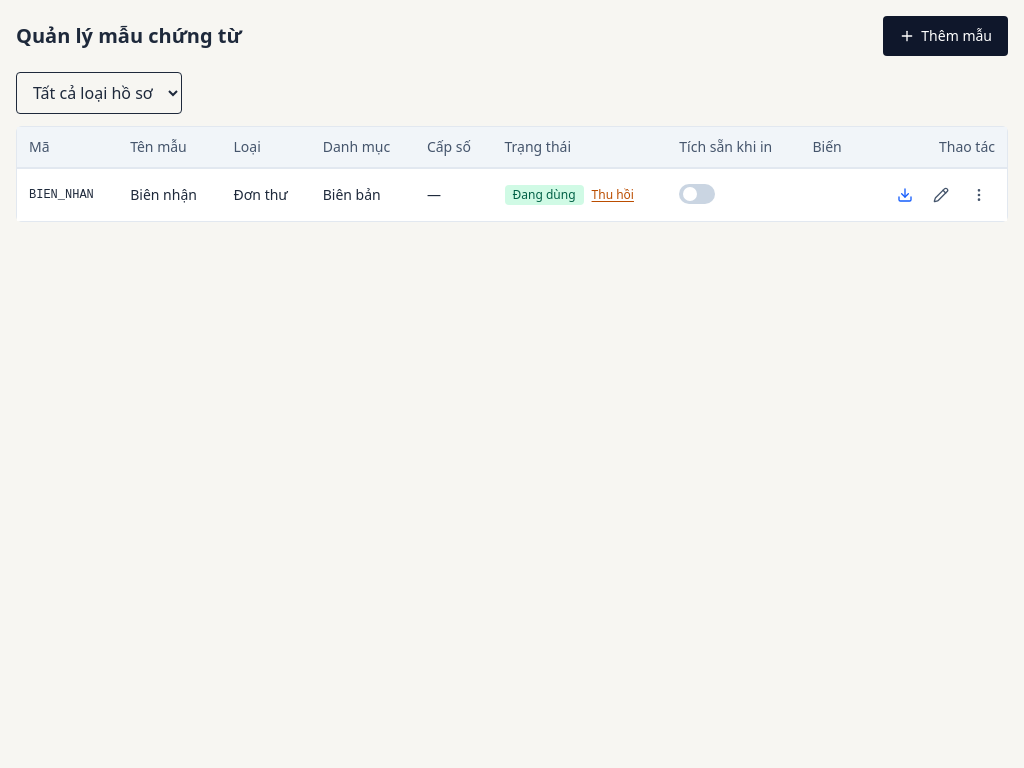
DocumentTemplatesPage › Sửa → mở modal chế độ Sửa (pre-fill, mã read-only)
The width and height of the screenshot is (1024, 768).
Click the button with test id "btn-edit-d1".
click(941, 195)  # box [925,179,957,211]
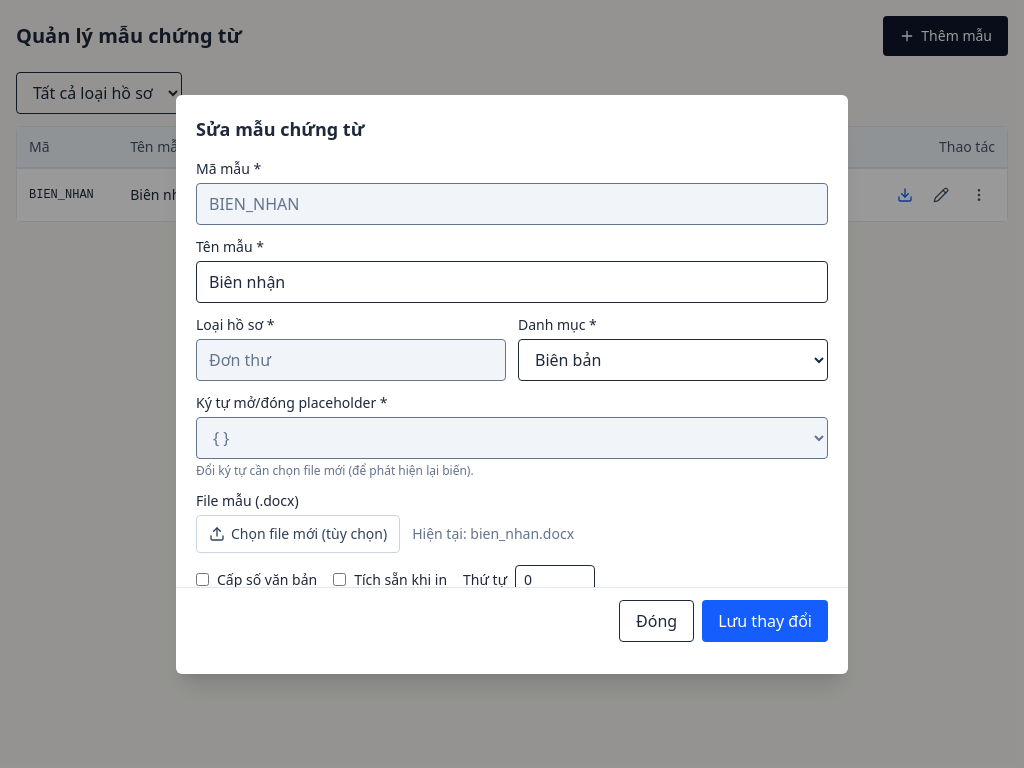
Expected: the element with test id "template-form-modal" is shown
Expected: the heading "Sửa mẫu chứng từ" is shown, [196,116,364,140]
Expected: the field with test id "template-code-input" is disabled, [196,182,828,224]
